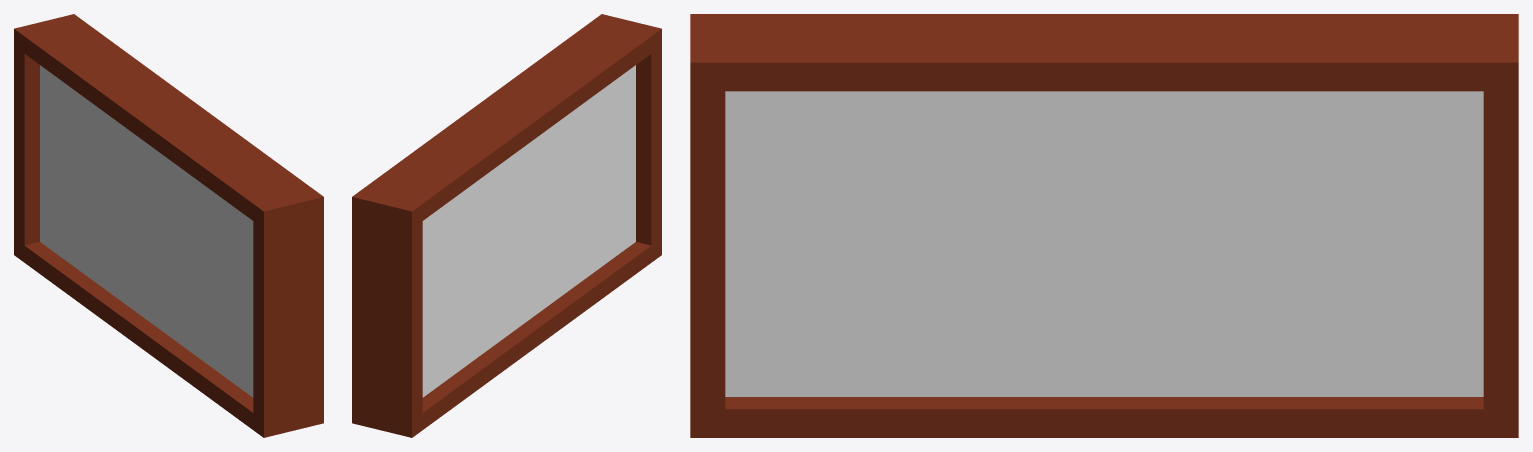
File: Window.glb
3 renders of one model, left to right at view 1: azimuth 30°, elevation 25°; view 2: azimuth 150°, elevation 25°; view 3: azimuth 270°, elevation 25°, orthographic. The views are drawn at different scales.
Parts seen in each view (by area): view 1: Window; view 2: Window; view 3: Window.
Part boxes in pixels (left/top/right/bottom): Window: left=14, top=14, right=323, bottom=437; Window: left=352, top=14, right=661, bottom=437; Window: left=690, top=14, right=1518, bottom=437.
Bounding box in the file's own units: 0.556 × 2 × 4.
